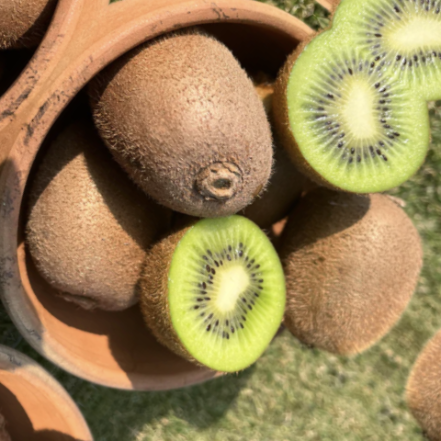kiwi: (46, 0, 349, 277), (225, 138, 441, 387)
